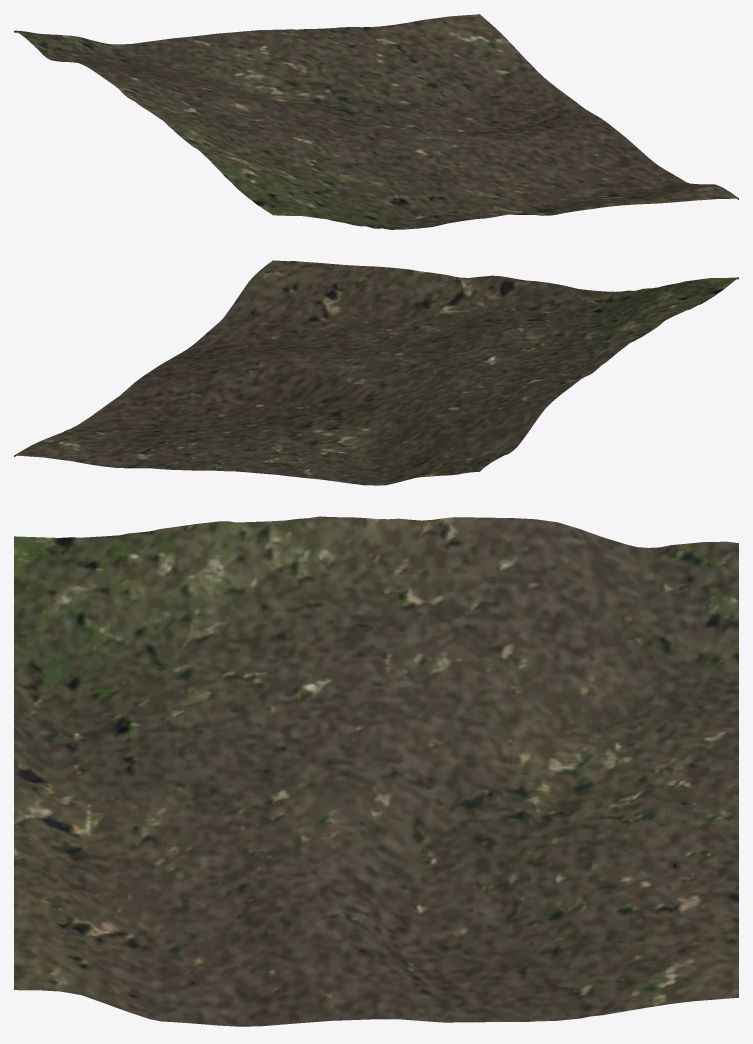
3 views of the same model, one above another, from view 1: azimuth 30°, elevation 25°; view 2: azimuth 150°, elevation 25°; view 3: azimuth 270°, elevation 25° (orthographic). The views are drawn at different scales.
Size of the model in its own units: 250 by 71.33 by 241.
Materials: 1 (1 with a texture image).
